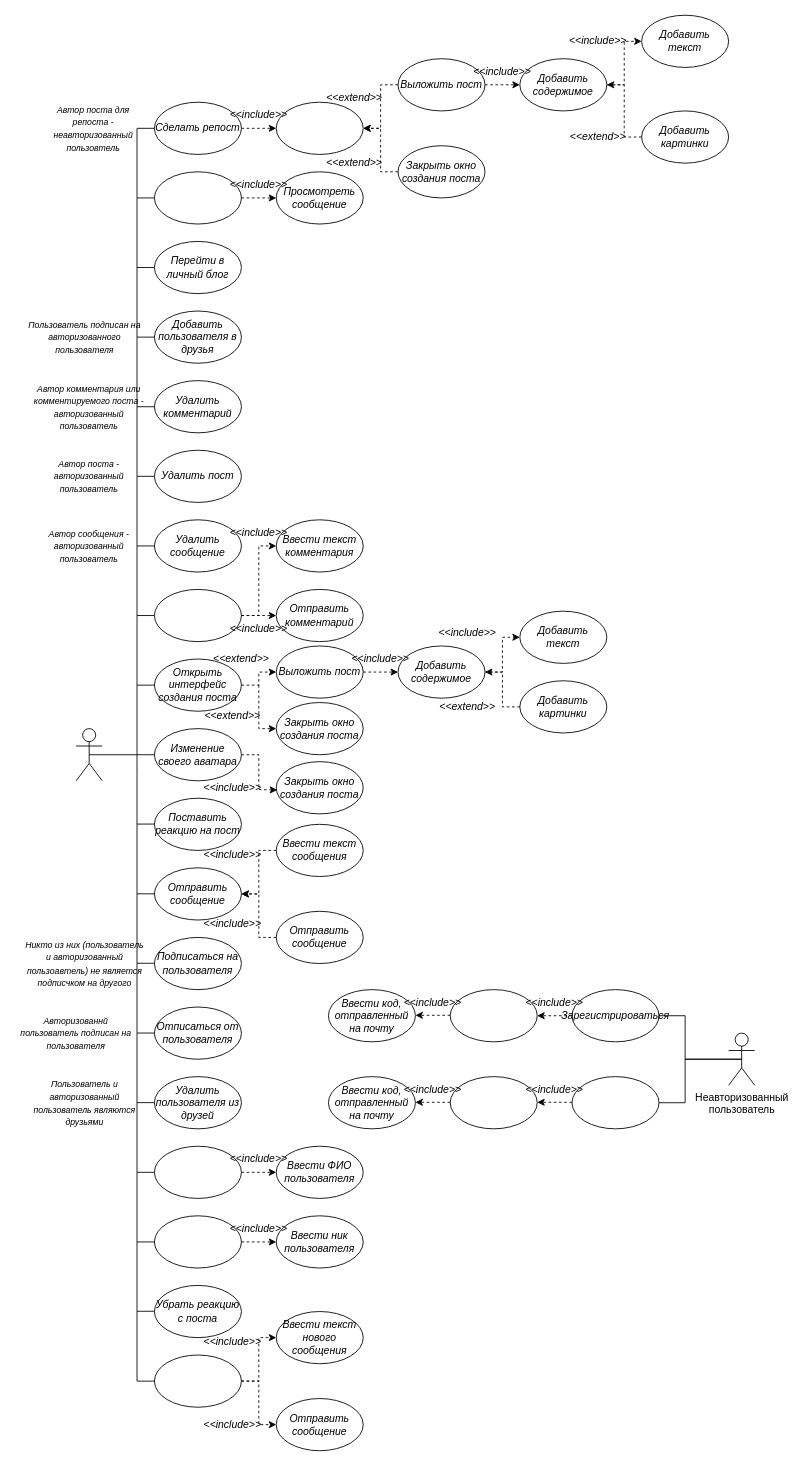
The diagram is 803 pixels wide and 1466 high, and some of its shapes have lost their labels. Each missing label, with the centre of its shape:
"Авторизованный пользователь" belongs at (88,754).
"Авторизоваться" belongs at (615,1102).
"Ввести email и пароль" belongs at (493,1102).
"Ввести личные данные" belongs at (493,1015).
"Найти пользователя по нику" belongs at (197,1241).
"Найти пользователя по ФИО" belongs at (197,1171).
"Открывается окно создание поста" belongs at (319,127).
"Переслать сообщение" belongs at (197,1380).
"Прочитать сообщение" belongs at (197,197).
"Создать комментарий" belongs at (197,615).
